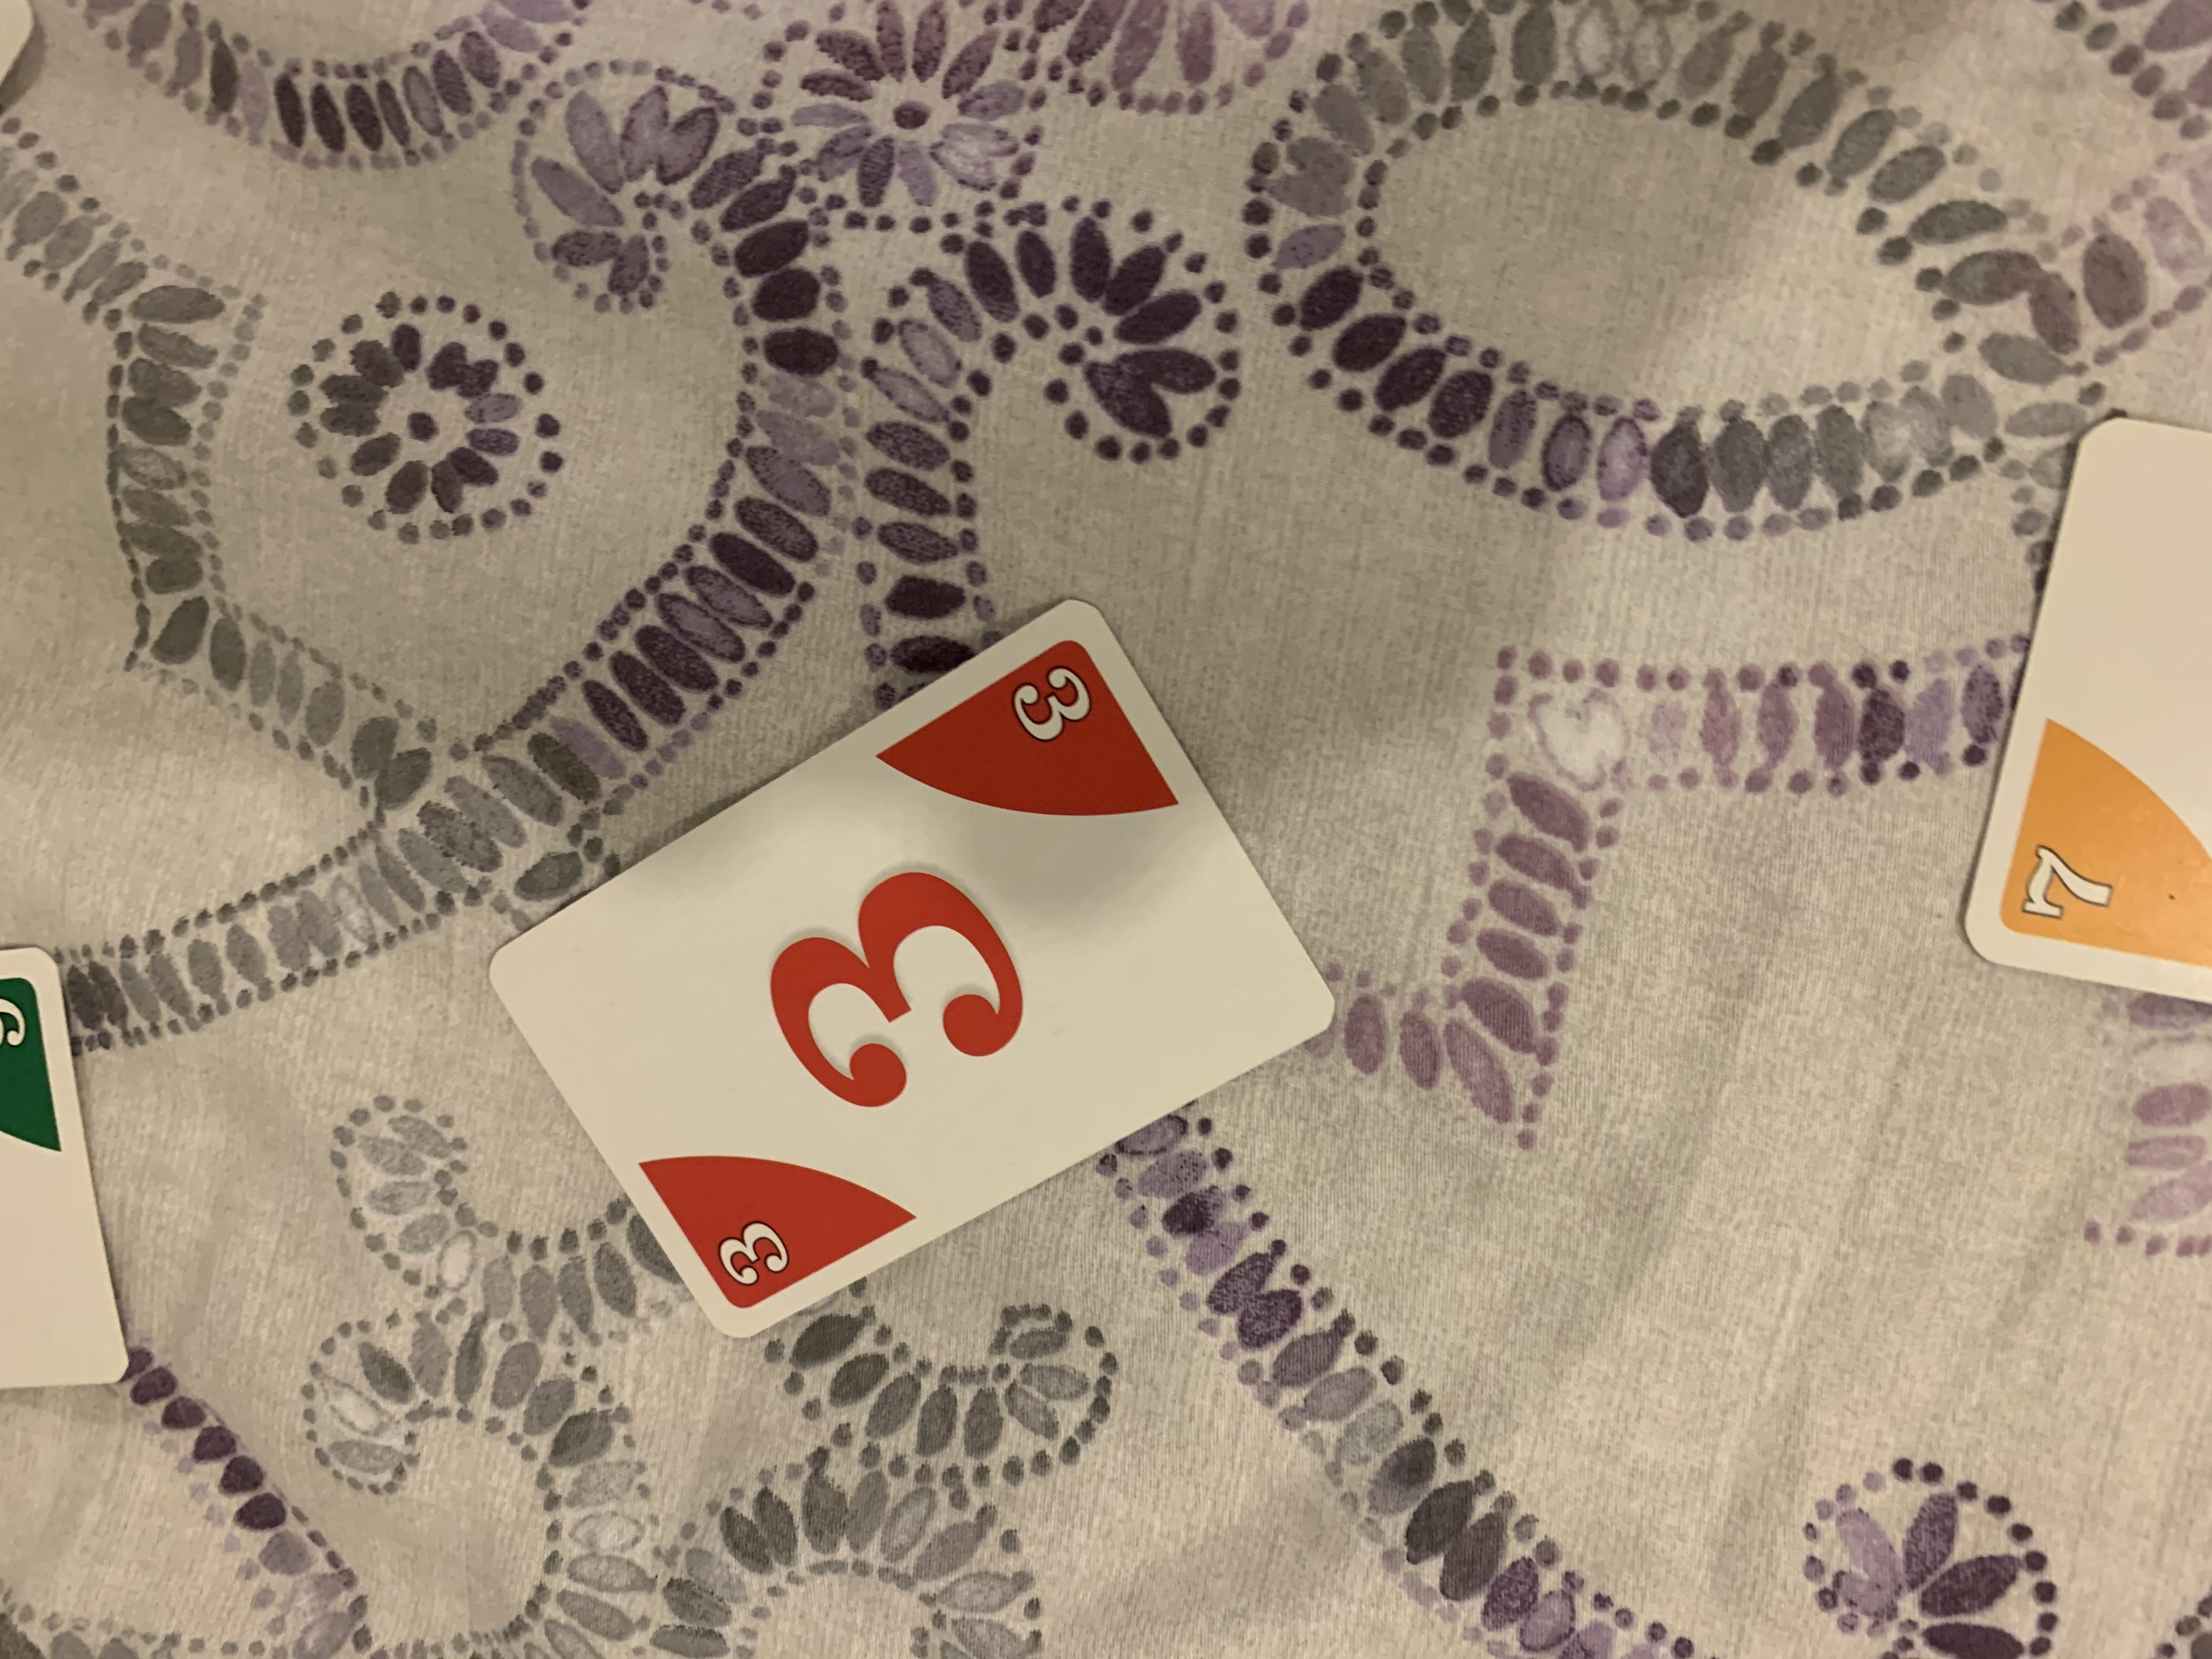three: (481, 592, 1341, 1347)
